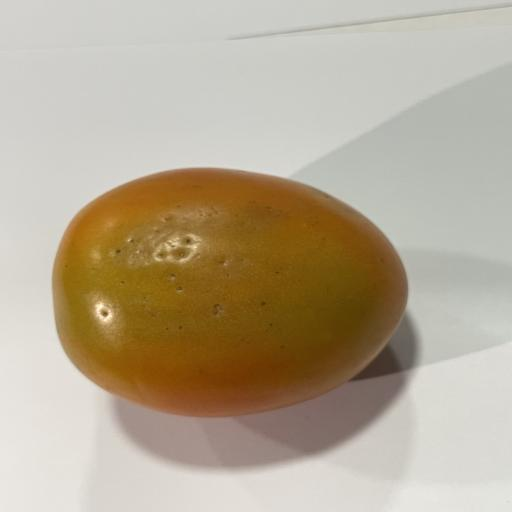unripe: (53, 168, 407, 416)
